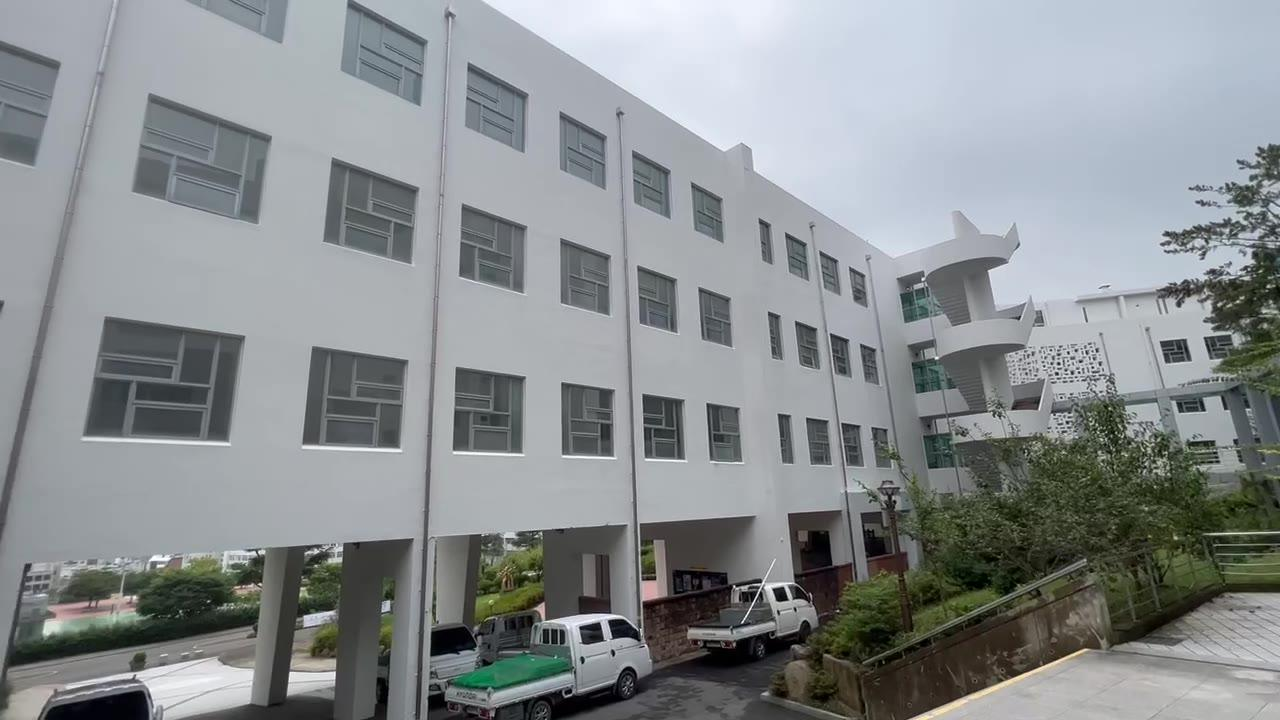building: (33, 20, 843, 520)
